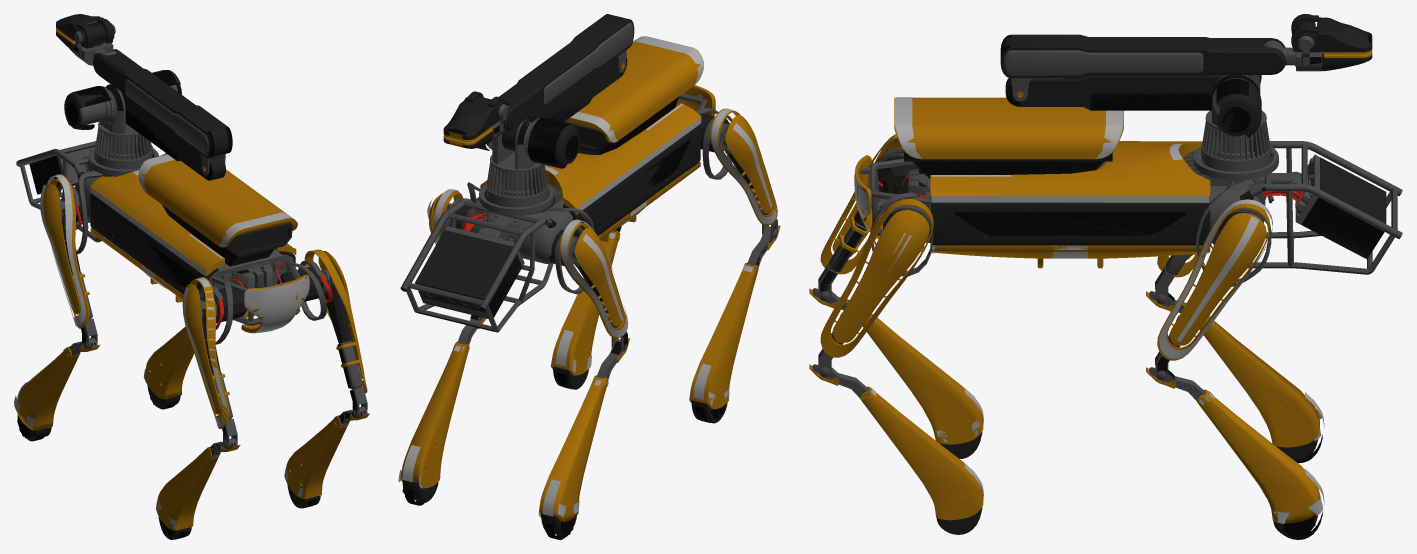
File: 005_dog.FBX
The picture shows the model from 3 angles, left to right: view 1: azimuth 30°, elevation 25°; view 2: azimuth 150°, elevation 25°; view 3: azimuth 270°, elevation 25°; orthographic projection. The views are drawn at different scales.
Parts seen in each view (by area): view 1: Body_armor, back_low, Crane_platform_low, front_low, back_c1, Body_armor_c1, front_с2, Body_armor_c2, Crane_platform_с3, back_с3, Crane_platform_с2, front_с1; view 2: front_low, Body_armor, Crane_platform_low, back_low, Body_armor_c1, Body_armor_c2, front_с2, Crane_platform_с2, back_с3, front_с4, front_с1, back_с5 (+2 smaller); view 3: Body_armor, front_low, back_low, Crane_platform_low, Body_armor_c1, Body_armor_c2, front_с3, Crane_platform_с3, front_с1, front_с5, Crane_platform_с2.
Boxes of the visible parts, x1=… form: Body_armor: x1=74, y1=148, x2=297, y2=321; back_low: x1=156, y1=249, x2=369, y2=539; Crane_platform_low: x1=56, y1=14, x2=232, y2=180; front_low: x1=16, y1=141, x2=194, y2=439; back_c1: x1=235, y1=266, x2=309, y2=333; Body_armor_c1: x1=90, y1=170, x2=295, y2=289; front_с2: x1=40, y1=174, x2=85, y2=345; Body_armor_c2: x1=138, y1=154, x2=294, y2=266; Crane_platform_с3: x1=74, y1=44, x2=232, y2=180; back_с3: x1=182, y1=277, x2=227, y2=442; Crane_platform_с2: x1=66, y1=70, x2=177, y2=129; front_с1: x1=16, y1=156, x2=99, y2=242; front_low: x1=400, y1=182, x2=629, y2=536; Body_armor: x1=461, y1=36, x2=703, y2=263; Crane_platform_low: x1=443, y1=14, x2=634, y2=207; back_low: x1=550, y1=85, x2=780, y2=423; Body_armor_c1: x1=481, y1=103, x2=700, y2=227; Body_armor_c2: x1=570, y1=36, x2=703, y2=154; front_с2: x1=561, y1=219, x2=628, y2=347; Crane_platform_с2: x1=528, y1=117, x2=578, y2=166; back_с3: x1=711, y1=109, x2=777, y2=231; front_с4: x1=538, y1=341, x2=623, y2=539; front_с1: x1=400, y1=220, x2=547, y2=331; back_с5: x1=693, y1=238, x2=772, y2=422; Body_armor: x1=894, y1=97, x2=1278, y2=268; front_low: x1=1146, y1=141, x2=1402, y2=537; back_low: x1=809, y1=134, x2=983, y2=534; Crane_platform_low: x1=1000, y1=14, x2=1372, y2=171; Body_armor_c1: x1=932, y1=143, x2=1208, y2=258; Body_armor_c2: x1=895, y1=97, x2=1123, y2=178; front_с3: x1=1157, y1=199, x2=1272, y2=374; Crane_platform_с3: x1=1000, y1=33, x2=1371, y2=110; front_с1: x1=1261, y1=187, x2=1384, y2=257; front_с5: x1=1146, y1=368, x2=1324, y2=539; Crane_platform_с2: x1=1216, y1=76, x2=1261, y2=132.
Bounding box in the file's own units: 44.3 × 117 × 104.
